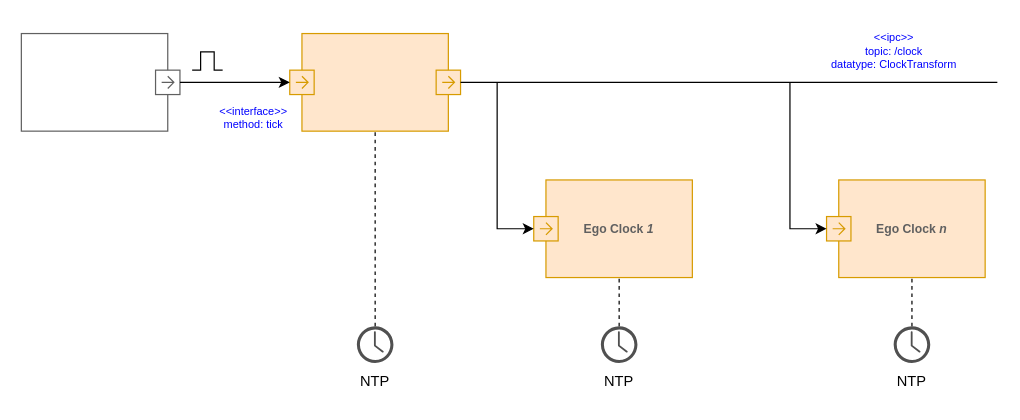
The diagram is 1020 pixels wide and 420 high, and some of its shapes have lost their labels. Here are the shapes that lost their labels. From the top down, the box of each, then its label:
(20, 32, 168, 131): Clock source (RT clock, Sim)
(301, 32, 448, 131): Ego Clock Driver
